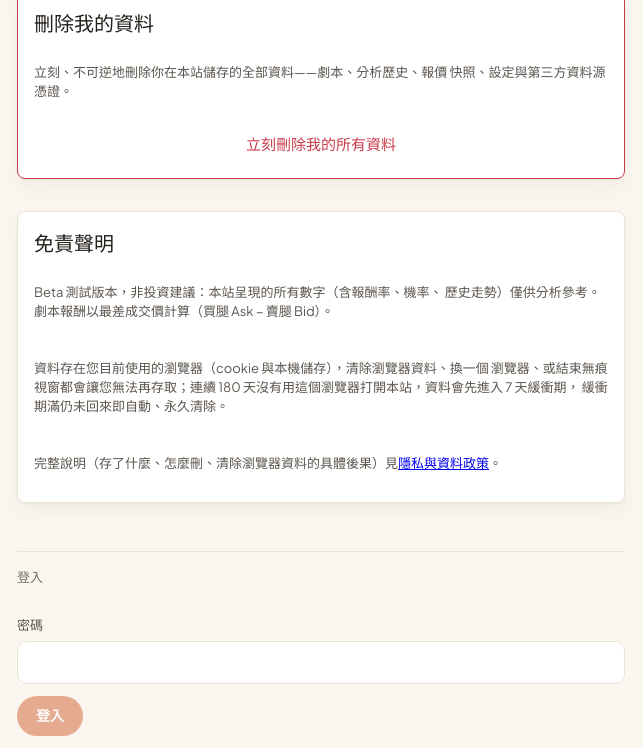
三層角色登入（AUTH-06／#313） › Super User 密碼登入後可以管理自己的 credential（CLAUDE-BETA-LAUNCH-FINAL-001）
The image size is (643, 748).
(page scrolled)
Type "correct-superuser-secret" into the password field labelled "密碼". click: (321, 662)
box: top-left (17, 640), bottom-right (625, 684)
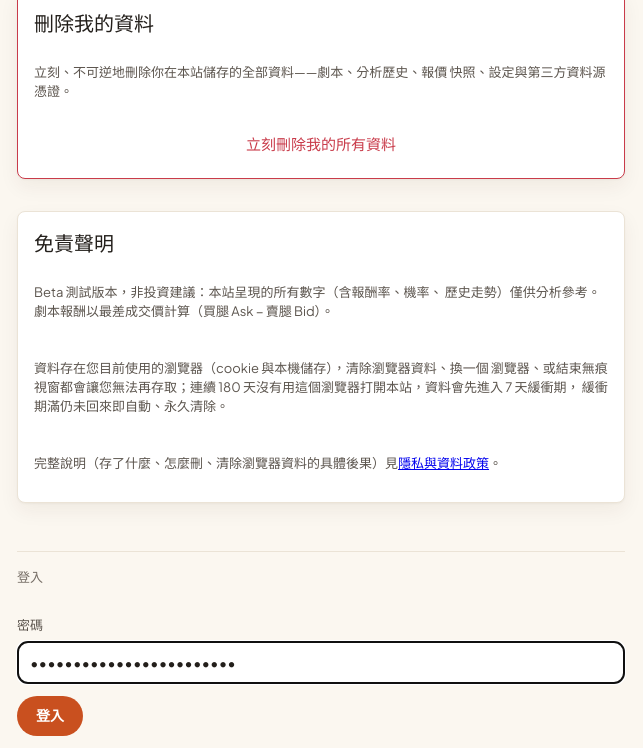
Click the button "登入". click: (50, 716)
box: top-left (17, 696), bottom-right (83, 736)
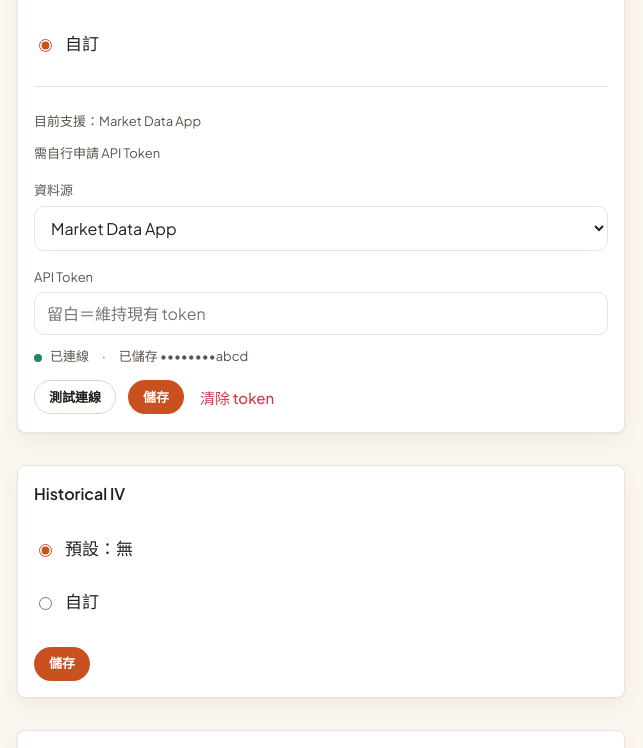
Expected: the password field labelled "API Token" is shown, top-left (34, 292), bottom-right (608, 335)
Expected: the button "測試連線" is shown, top-left (34, 380), bottom-right (116, 414)
Expected: the button "清除 token" is shown, top-left (196, 379), bottom-right (278, 416)
